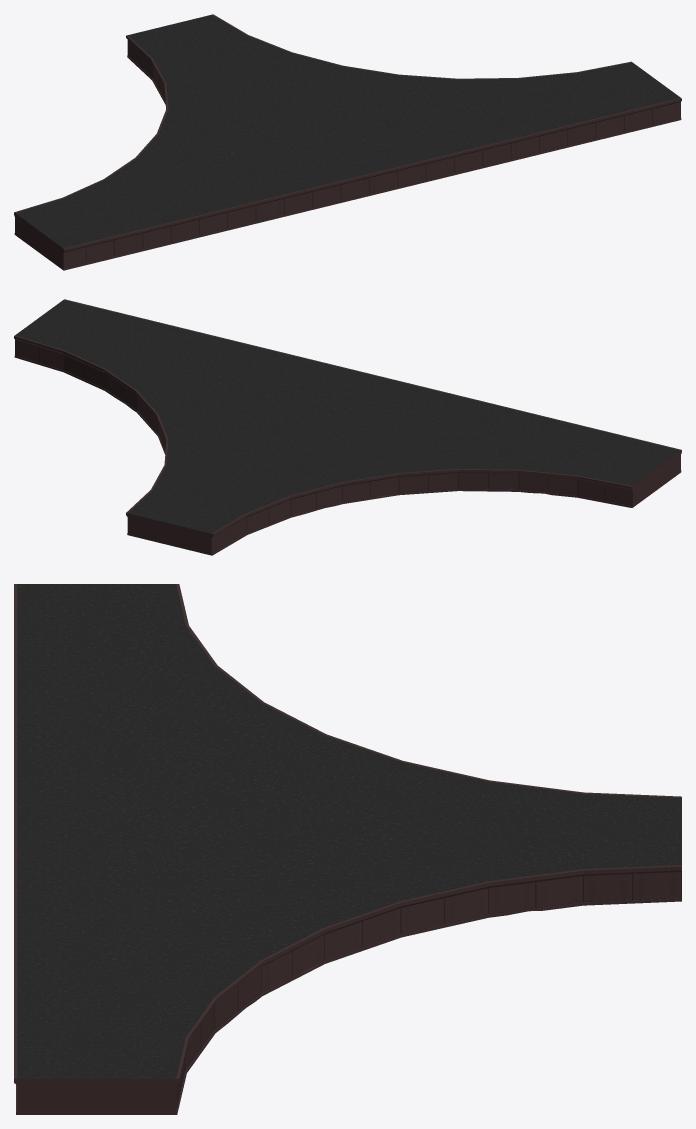
The model's file is SW_ENV_EL_TrackBase_Junction_180Deg.fbx.
3 views of the same model, one above another, from view 1: azimuth 30°, elevation 25°; view 2: azimuth 150°, elevation 25°; view 3: azimuth 270°, elevation 25° (orthographic). The views are drawn at different scales.
Parts seen in each view (by area): view 1: SW_ENV_EL_TrackBase_Junction_180Deg; view 2: SW_ENV_EL_TrackBase_Junction_180Deg; view 3: SW_ENV_EL_TrackBase_Junction_180Deg.
Boxes of the visible parts, bbox=[...] form: SW_ENV_EL_TrackBase_Junction_180Deg: bbox=[14, 14, 681, 270]; SW_ENV_EL_TrackBase_Junction_180Deg: bbox=[14, 299, 681, 555]; SW_ENV_EL_TrackBase_Junction_180Deg: bbox=[14, 584, 681, 1114].
Bounding box in the file's own units: 5450 × 185 × 3110.
